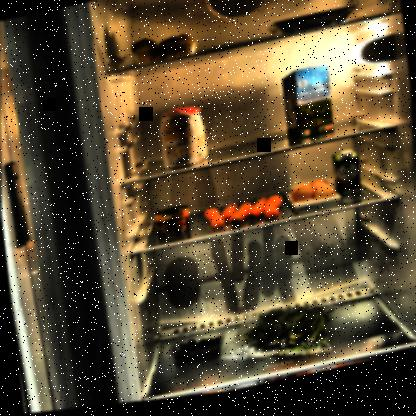blueberries: (174, 332, 228, 374)
carrot: (202, 199, 286, 240)
corn: (153, 206, 189, 239)
eggs: (287, 178, 339, 213)
green_beans: (245, 304, 329, 373)
heavy_cream: (331, 154, 363, 209)
milk: (283, 70, 338, 149)
potato: (128, 31, 197, 72)
